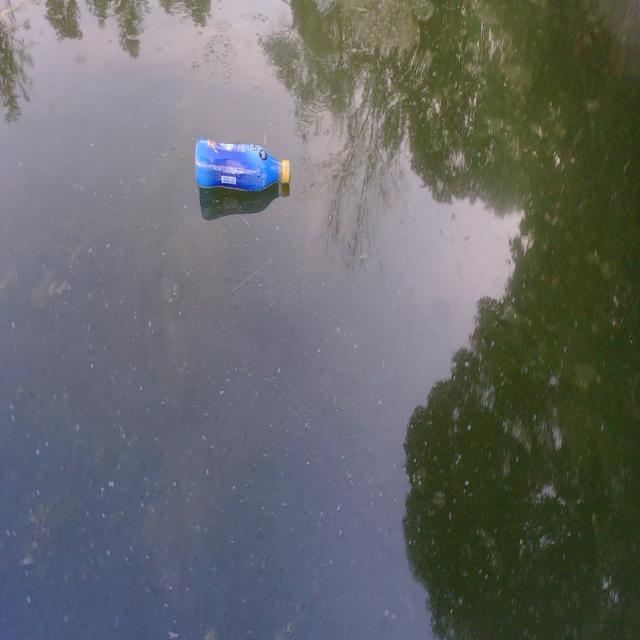Bottle: (194, 131, 292, 201)
